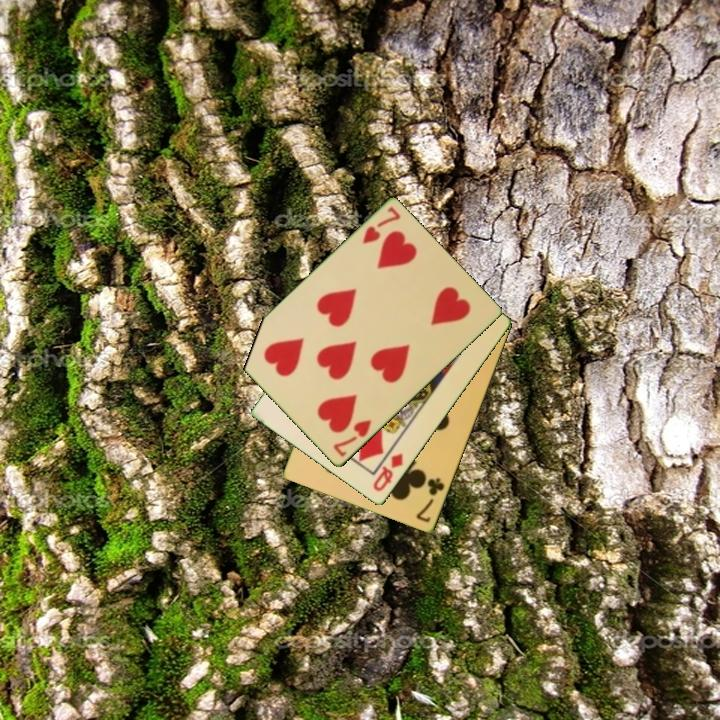7c: (413, 474, 448, 526)
7h: (330, 416, 374, 460), (359, 203, 403, 247)
Qd: (369, 450, 406, 495)
